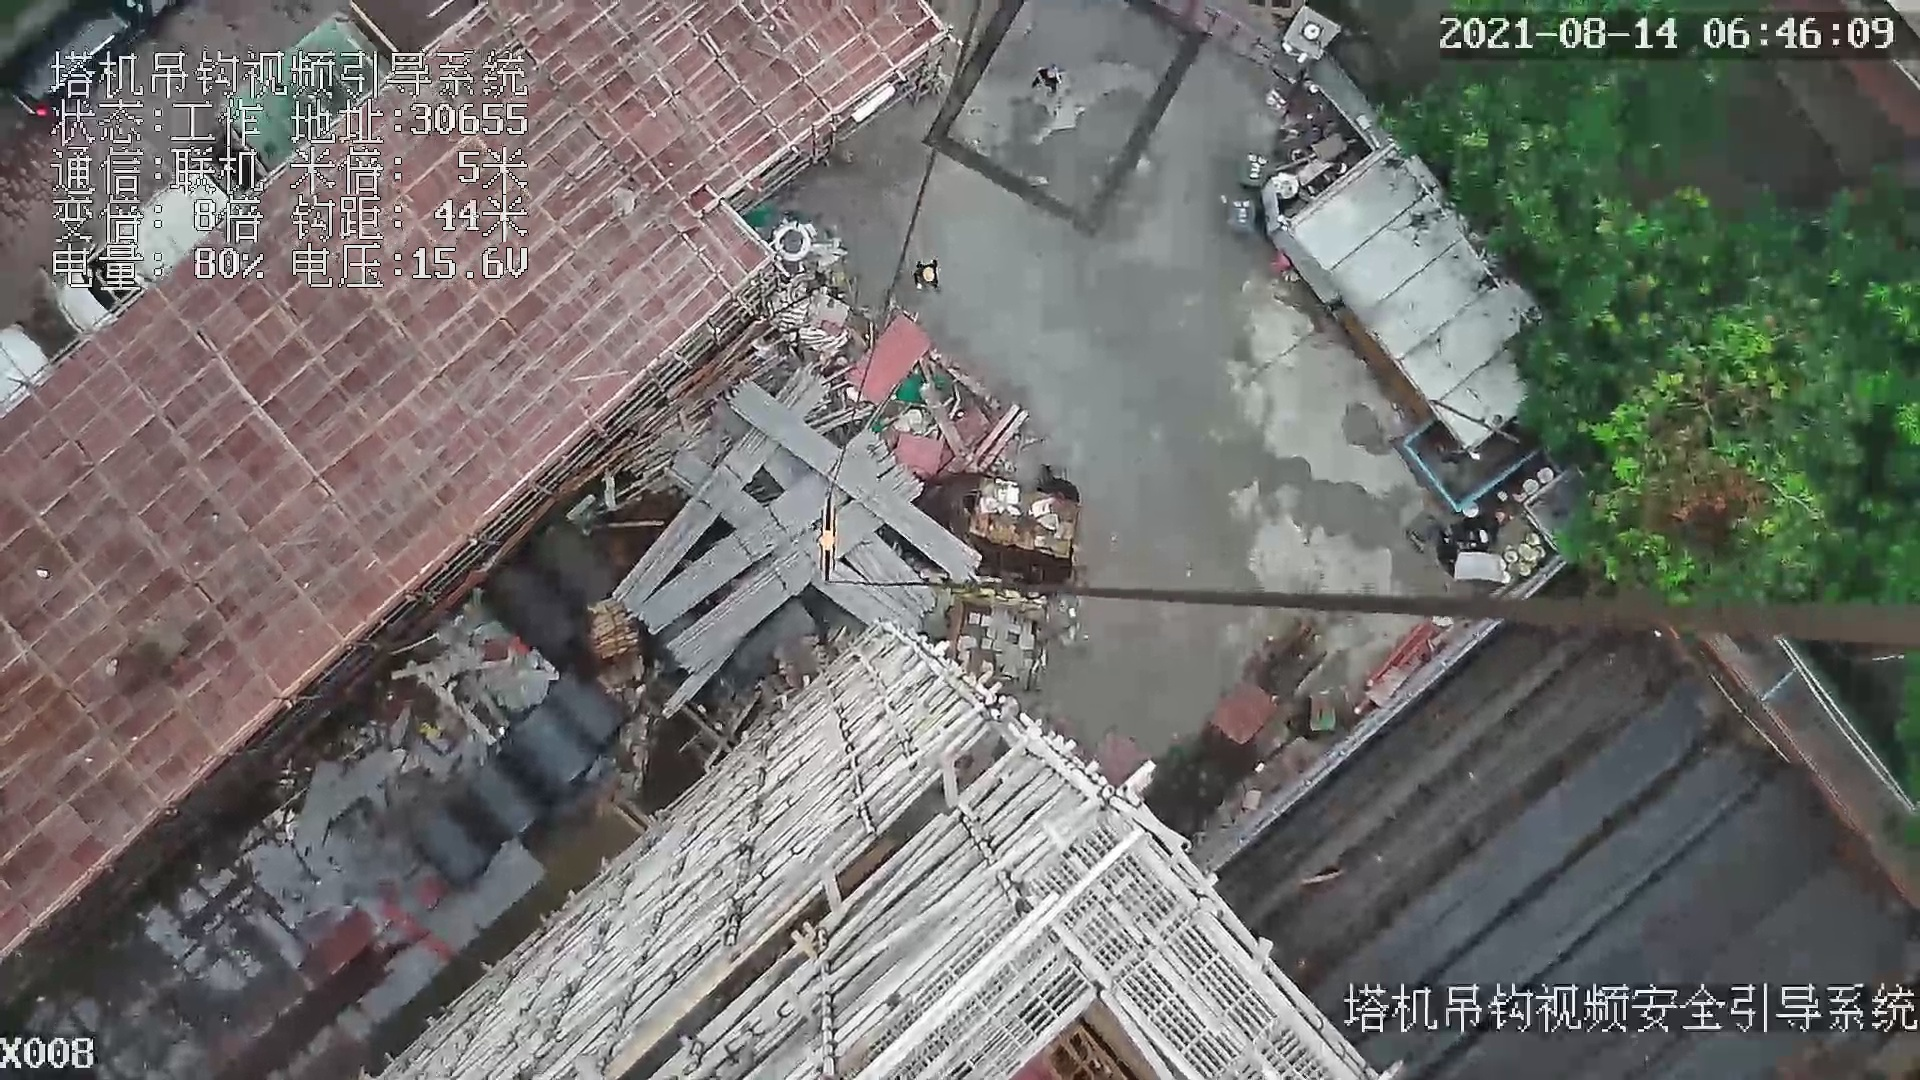helmet: (920, 266, 935, 281)
hook: (815, 497, 845, 590)
hopper: (1392, 408, 1548, 517)
person: (901, 250, 945, 294), (1032, 69, 1067, 100)
